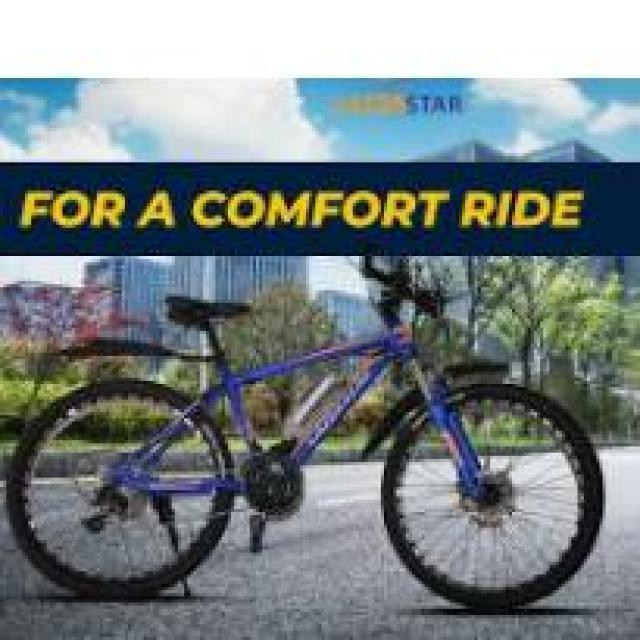bicycle: (10, 270, 610, 604)
